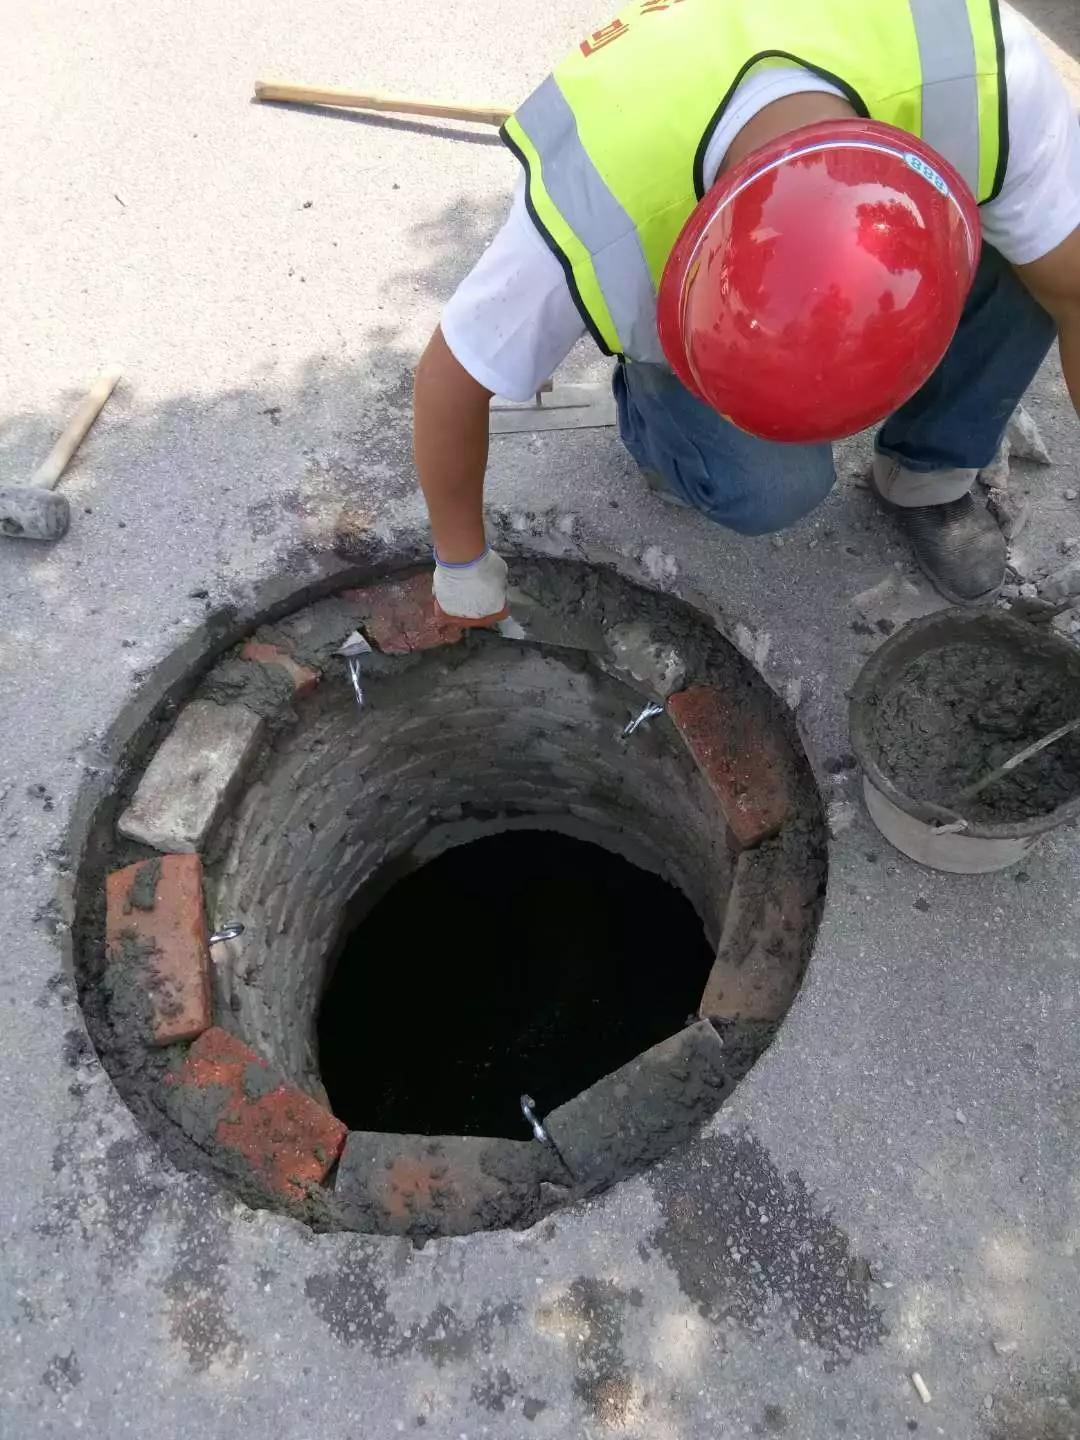helmet: (660, 122, 974, 450)
wear: (498, 0, 1052, 154)
